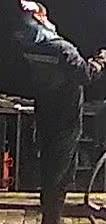gloves: (91, 48, 106, 73)
vest: (16, 31, 87, 135)
